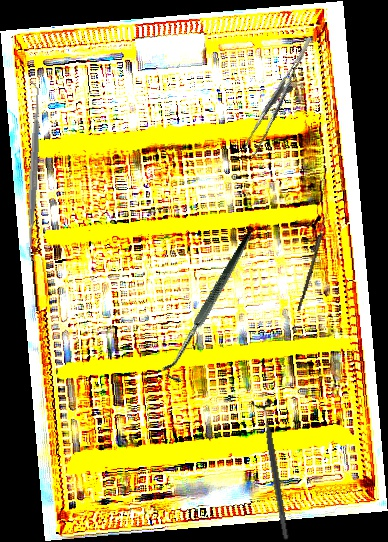Fixation Ring: (250, 397, 297, 542)
Hook Surgical: (125, 230, 298, 387)
Spatula Surgical: (18, 81, 49, 261)
Surgical Spoon: (297, 207, 330, 312)
Tissue Forceps: (232, 36, 330, 158)
